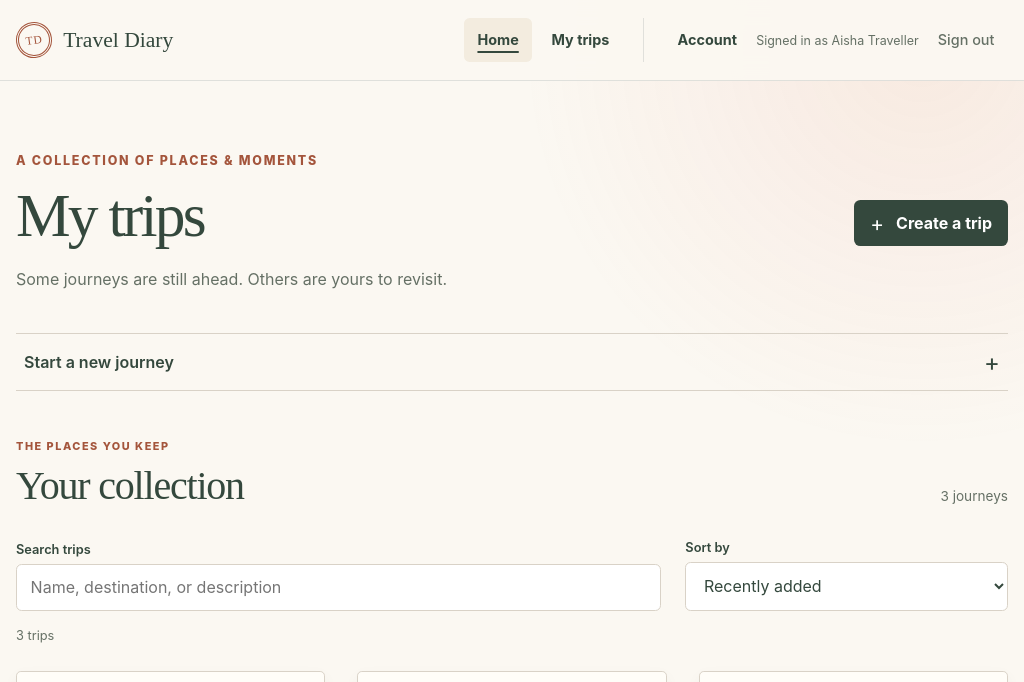
Test: Trips page › searches and sorts the saved trips
Expected: the text "3 trips" is shown, [16,628,54,643]
Select "Start date: earliest first" in the dropdown labelled "Sort by" at (847, 586), box [685,562,1008,611]
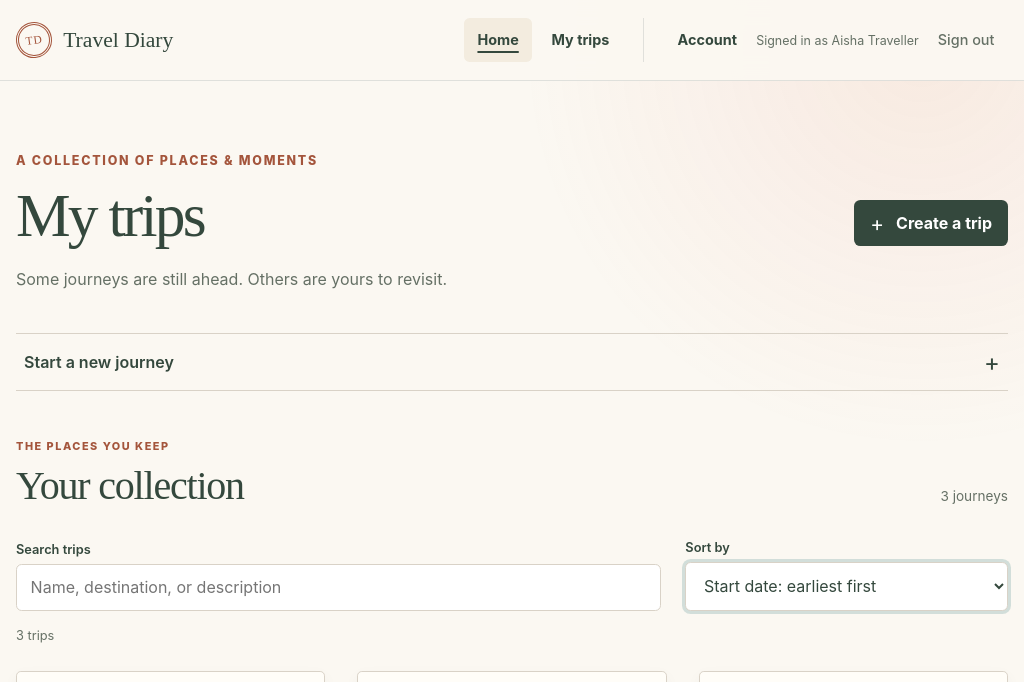
Type "sydney" into the search field labelled "Search trips".
click(339, 587); type("sydney")  # box [16,564,661,611]
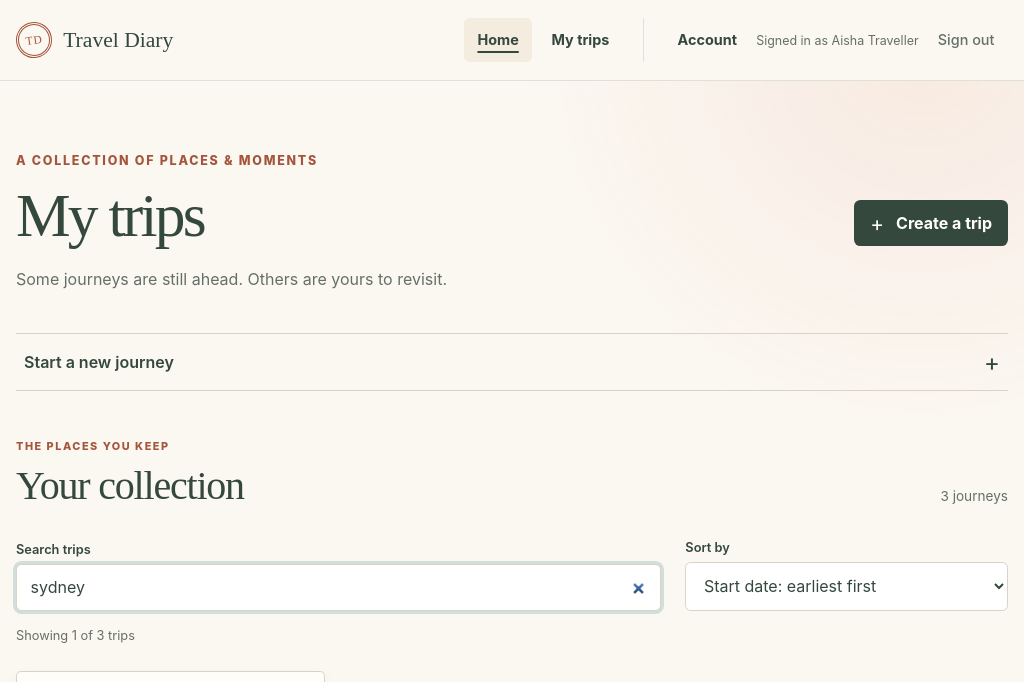
Expected: the text "Showing 1 of 3 trips" is shown, [16,628,135,643]
